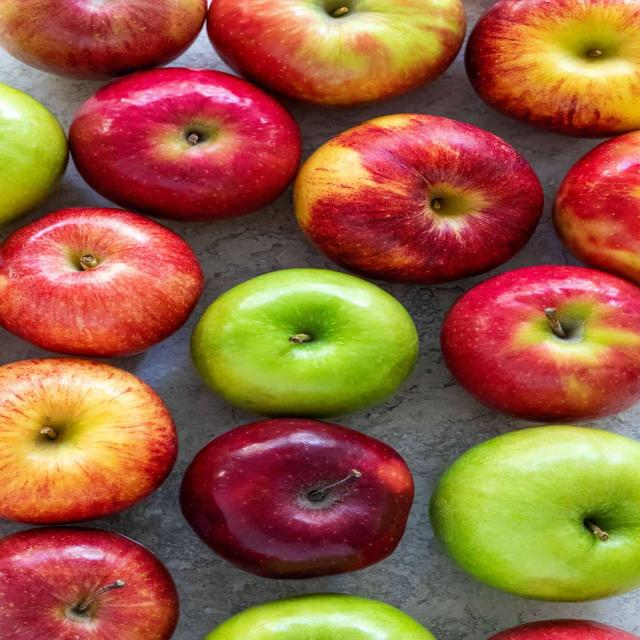Green Apple: (428, 421, 640, 602), (190, 267, 419, 414), (461, 2, 640, 136), (185, 589, 464, 640), (2, 79, 68, 229)
Red Apple: (292, 111, 546, 283), (179, 417, 416, 579), (68, 68, 302, 221), (440, 263, 640, 421), (2, 206, 205, 358), (2, 354, 179, 525), (1, 524, 181, 640), (2, 2, 211, 76), (455, 617, 640, 640)
